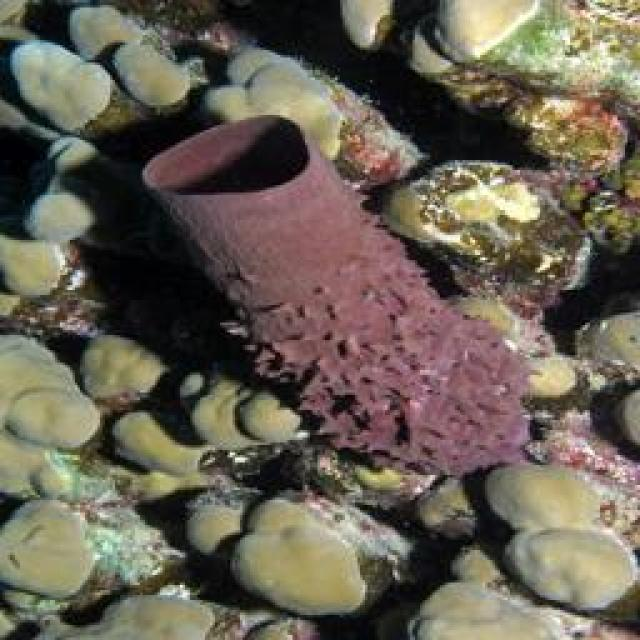reefs: (139, 114, 545, 480), (116, 360, 401, 624), (0, 330, 227, 638), (361, 455, 638, 638)
